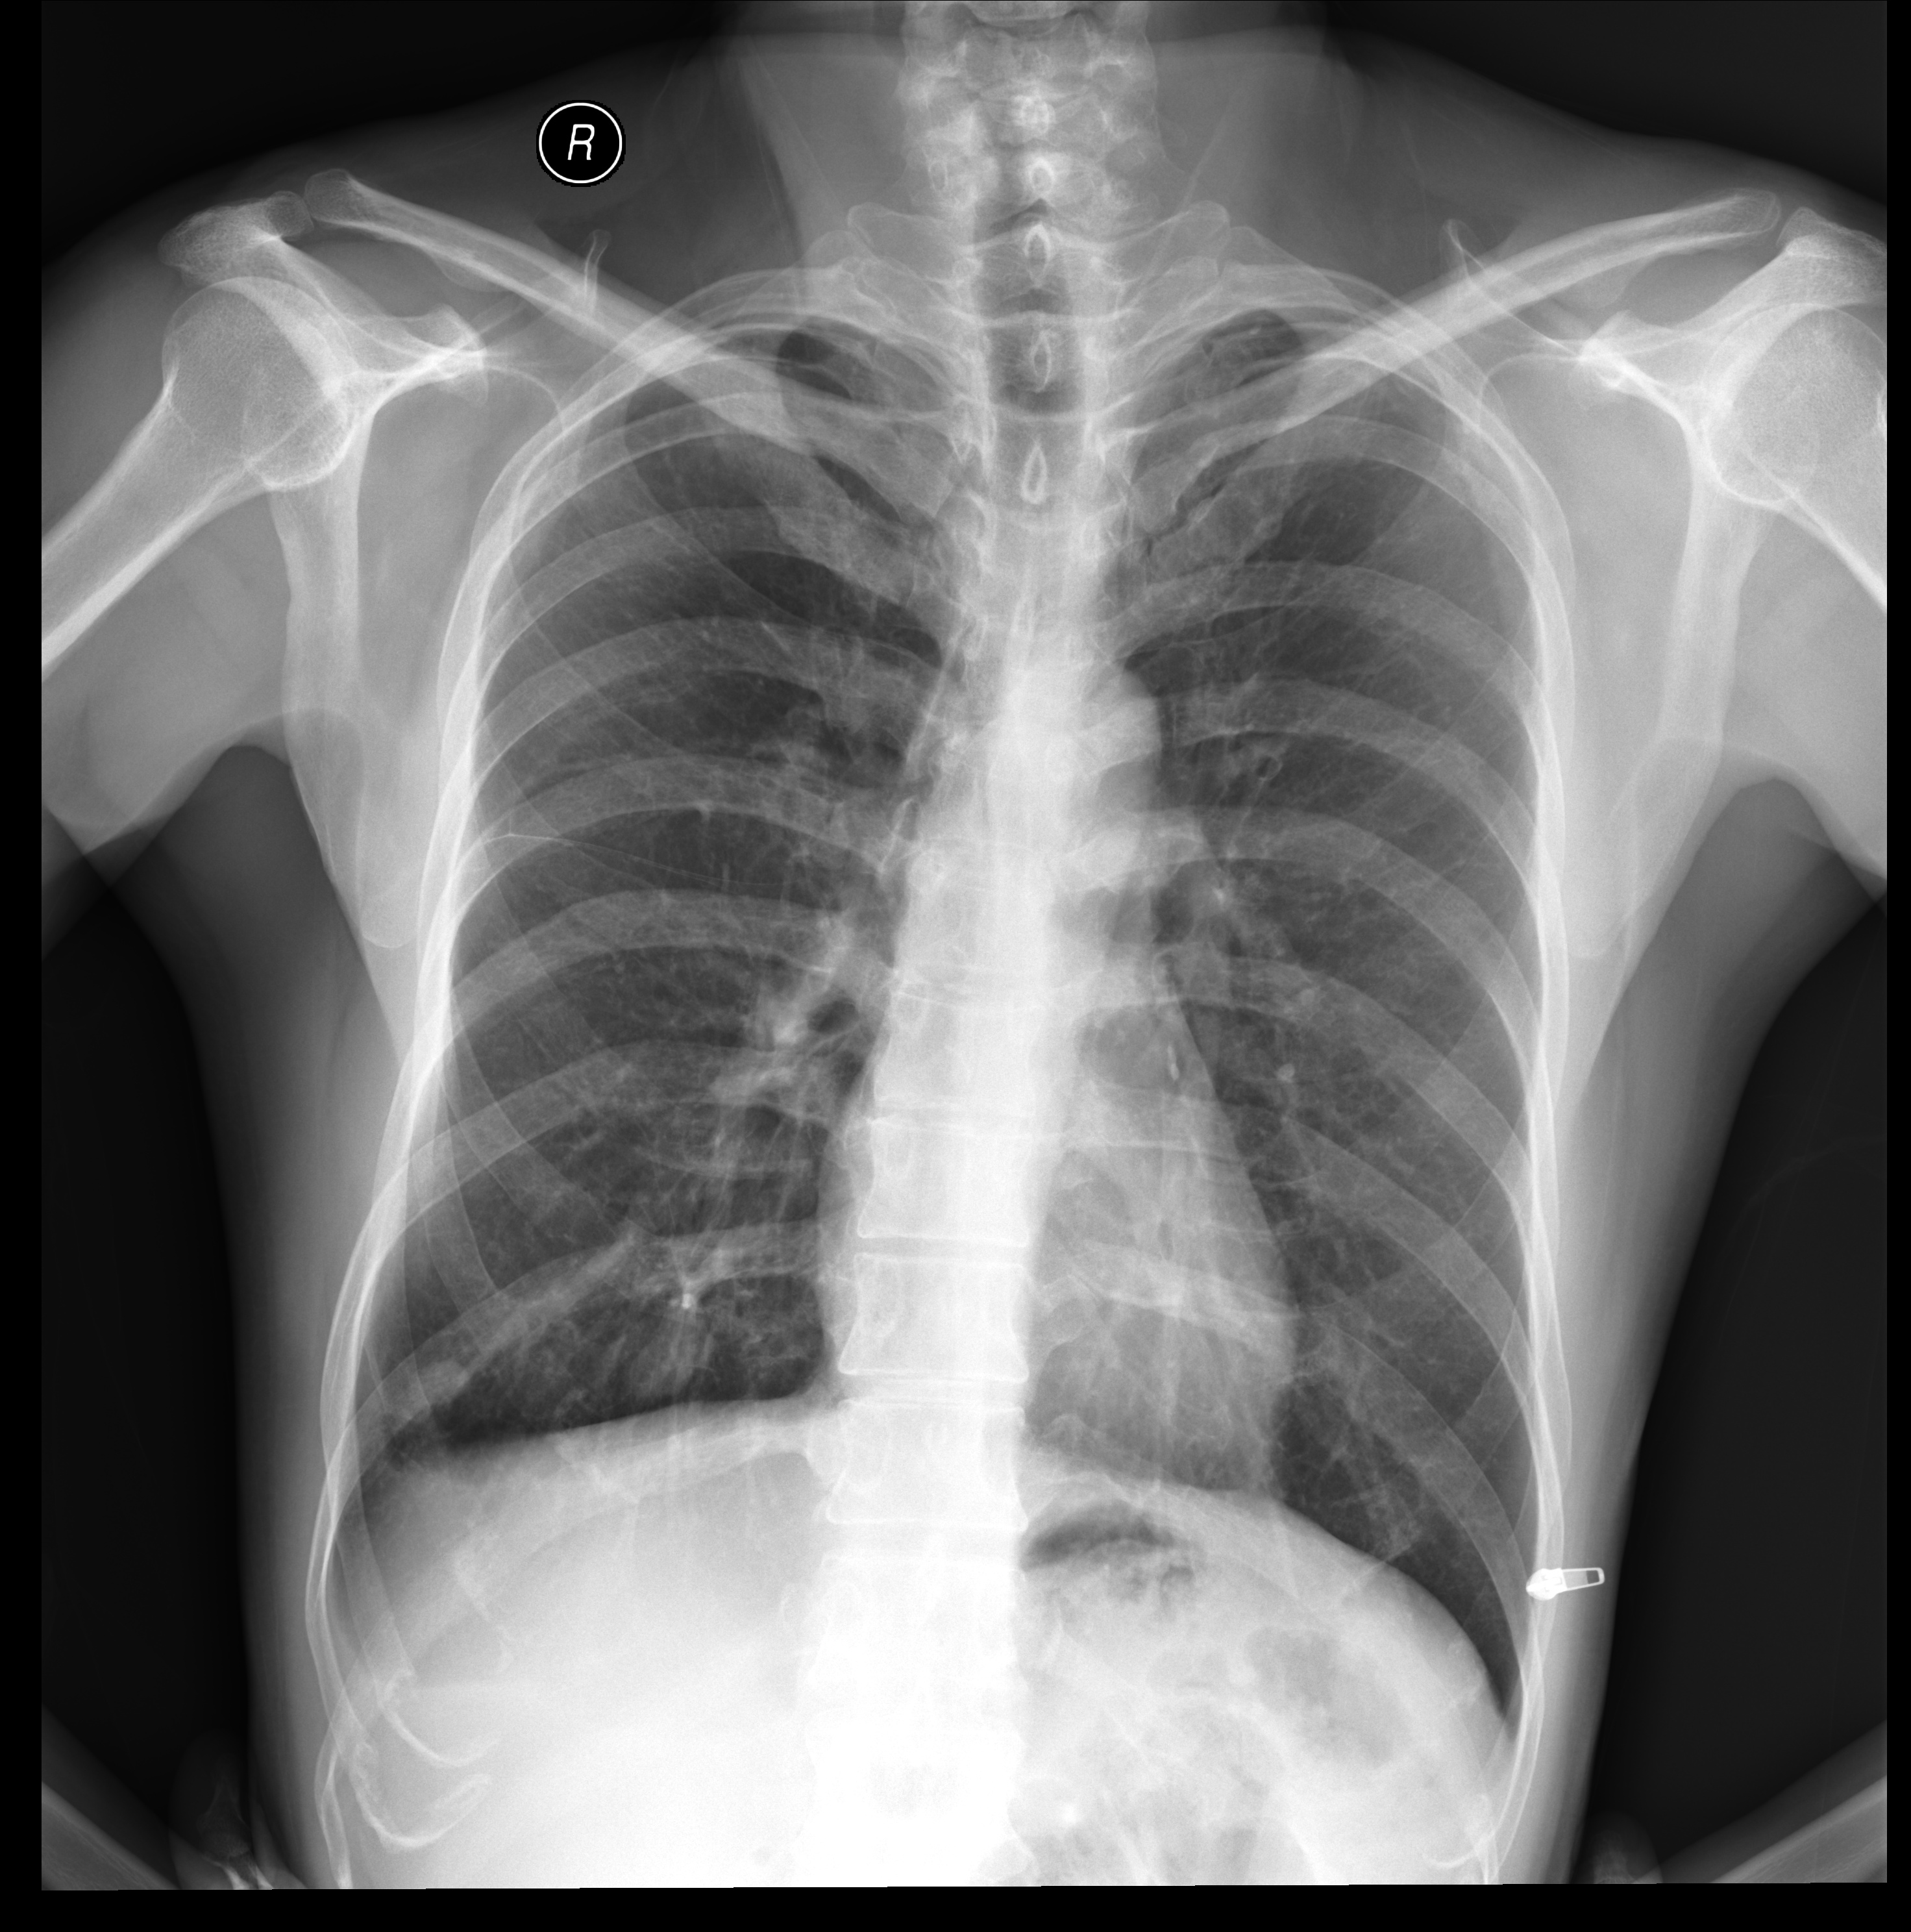nodule: (359, 1321, 504, 1454)
